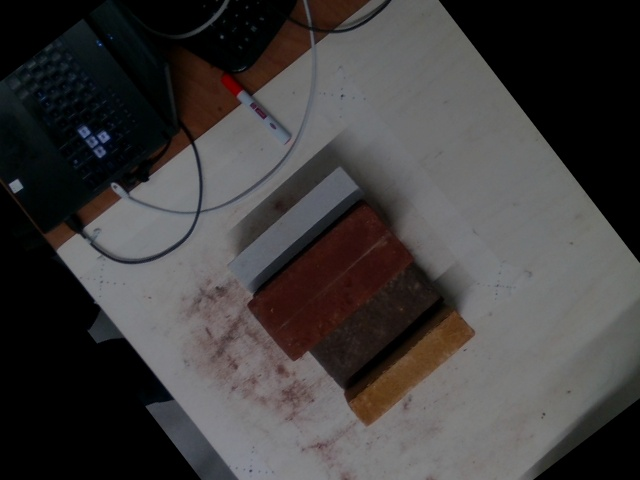brick: (245, 205, 411, 362), (309, 261, 449, 392)
brick-side: (222, 165, 362, 294), (345, 309, 479, 430)
